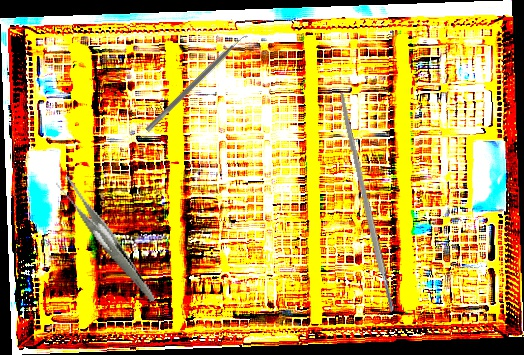Dressing Forceps: (54, 161, 156, 319)
Scalpel Handle: (336, 92, 396, 313)
Spatula Surgical: (144, 30, 252, 138)
